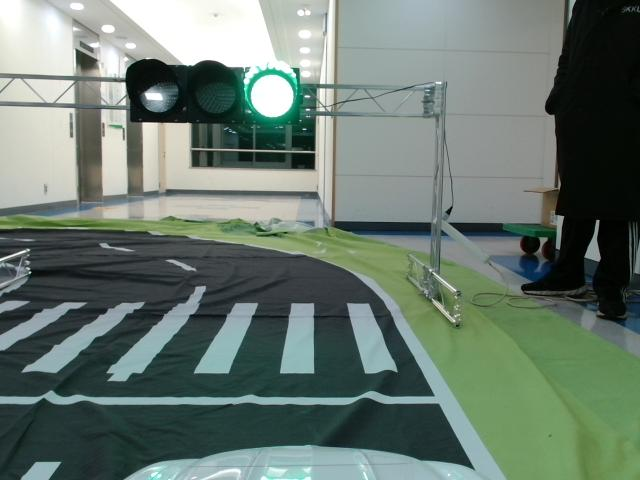crosswalk: (1, 299, 405, 374)
traffic light-green-: (128, 59, 301, 123)
